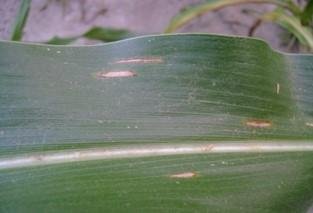Gray_Leaf_Spot: (89, 67, 144, 83), (161, 168, 205, 187), (25, 158, 73, 171), (242, 117, 277, 131), (110, 58, 170, 66), (46, 44, 68, 61), (199, 140, 219, 154), (273, 79, 285, 100), (269, 184, 278, 209), (212, 162, 236, 171), (98, 119, 121, 127), (130, 123, 142, 134), (305, 113, 313, 128), (211, 72, 217, 92)
